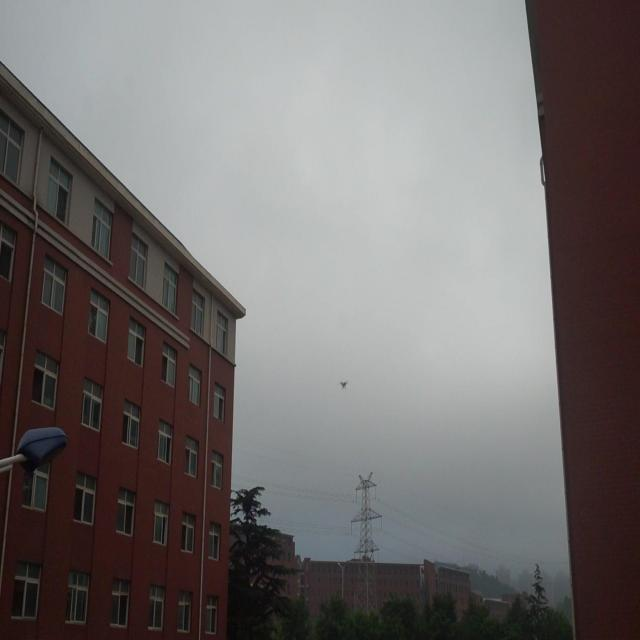UAV: (339, 381, 349, 390)
